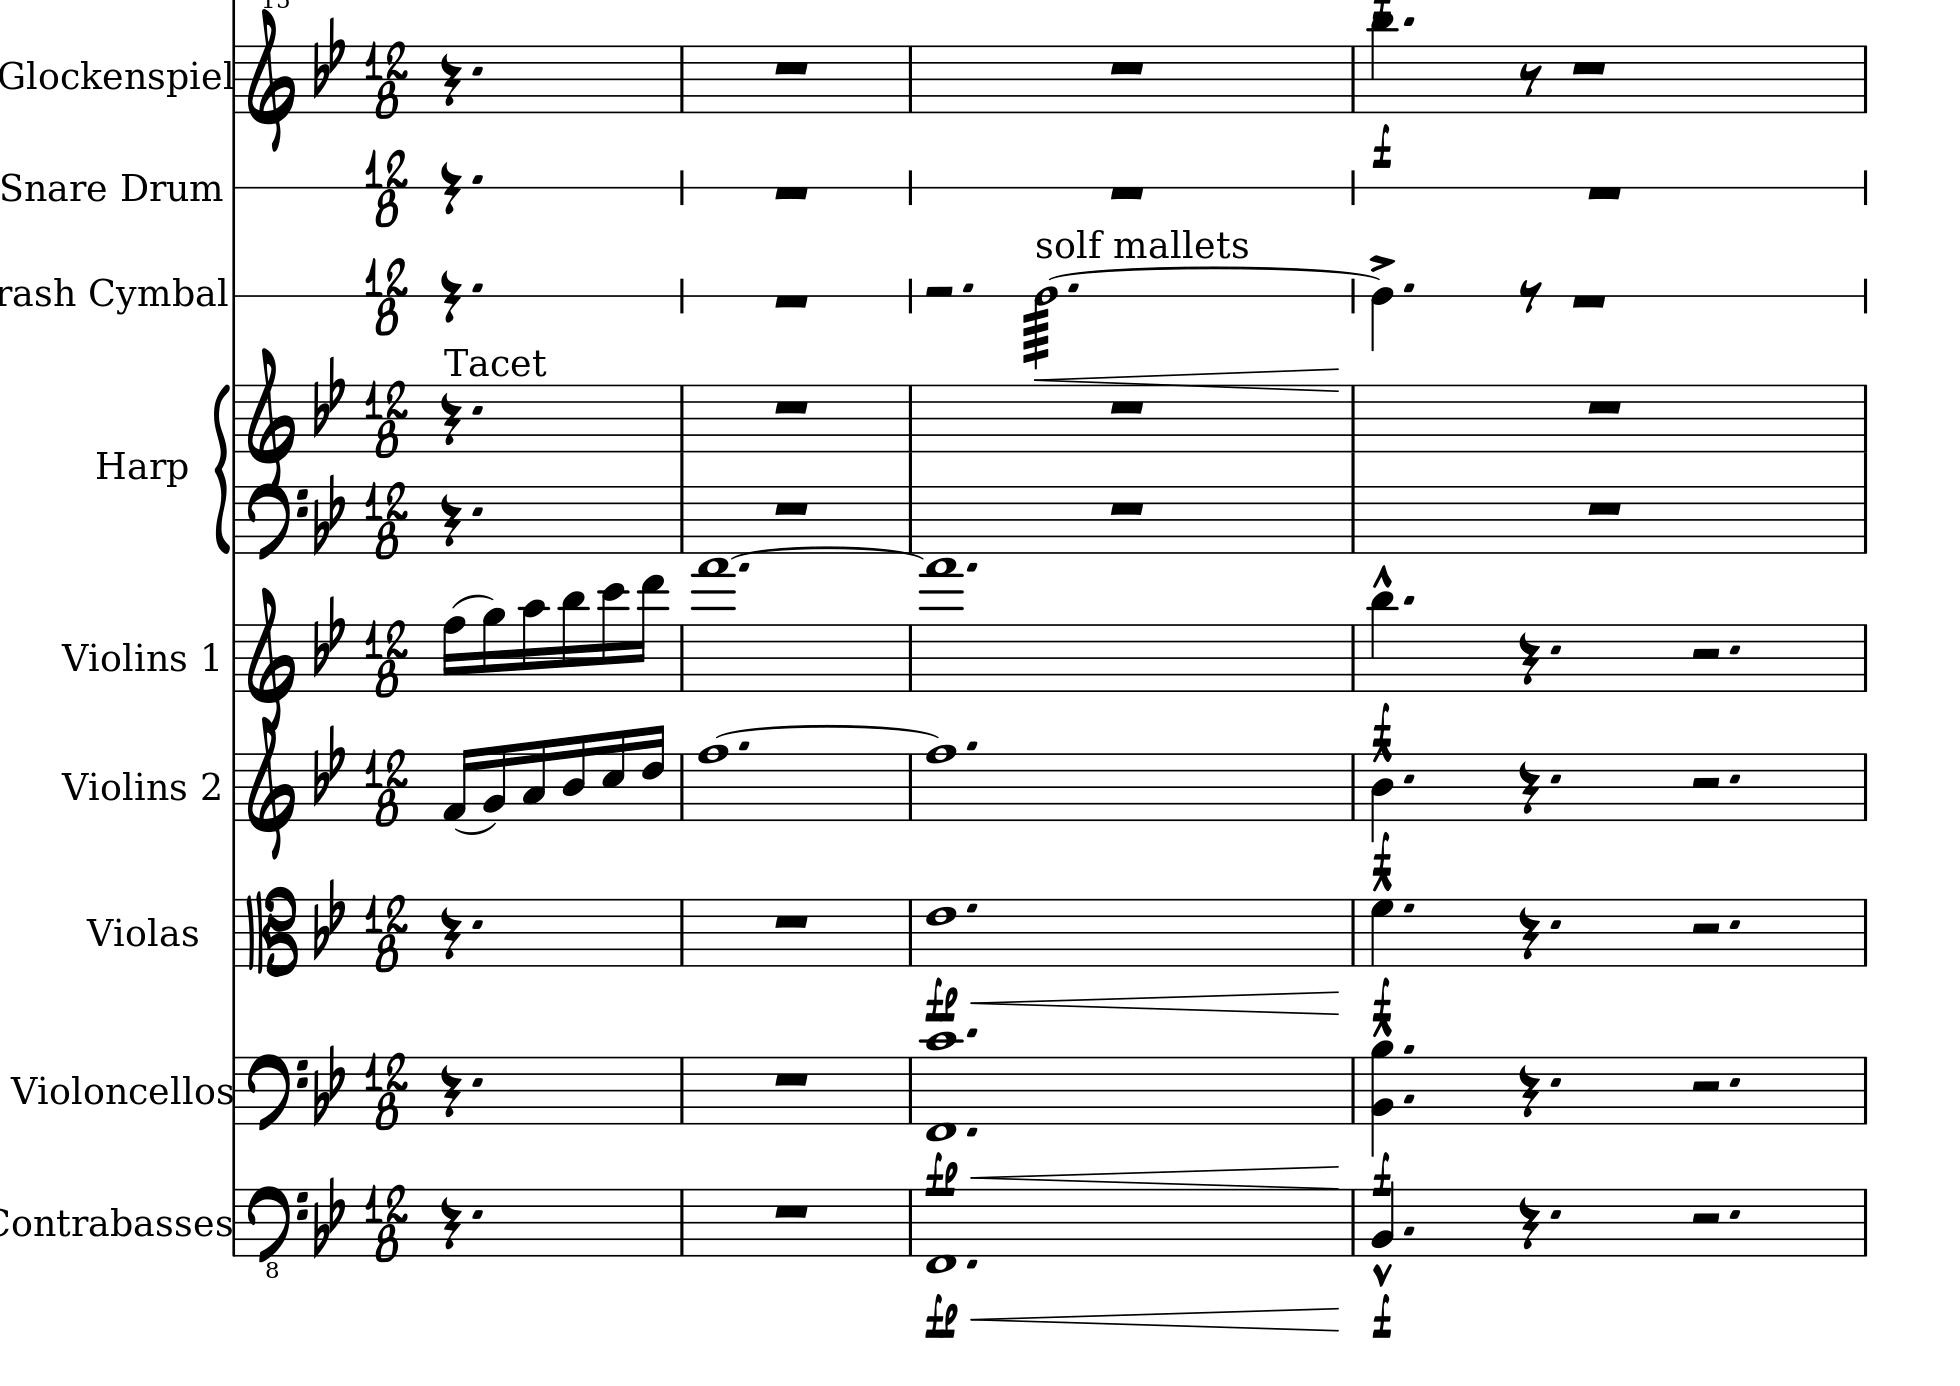1: (361, 39, 382, 79), (361, 480, 382, 520), (363, 1050, 382, 1092), (363, 256, 384, 295), (363, 618, 382, 658), (363, 892, 382, 933), (363, 379, 382, 418), (363, 1183, 382, 1222), (364, 147, 382, 189), (363, 747, 381, 787)
16_1: (439, 745, 475, 822)
16_10: (520, 598, 547, 694)
16_11: (558, 589, 586, 694)
16_12: (598, 580, 628, 693)
16_13: (633, 574, 666, 691)
16_2: (481, 742, 508, 822)
16_3: (520, 736, 547, 822)
16_4: (561, 733, 586, 822)
16_5: (600, 727, 627, 822)
16_6: (640, 721, 667, 823)
16_8: (439, 613, 466, 693)
16_9: (480, 604, 505, 694)
1_-1: (925, 1198, 955, 1279)
1_-1_10: (919, 1030, 964, 1141)
1_15: (922, 555, 963, 693), (694, 555, 733, 693)
1_6: (924, 897, 957, 967)
1_8: (924, 742, 958, 823), (697, 742, 730, 823)
2: (384, 616, 409, 660), (384, 747, 411, 787), (382, 1050, 409, 1090), (384, 37, 409, 79), (384, 1182, 409, 1224), (382, 148, 409, 187), (384, 378, 409, 418), (384, 480, 409, 520), (384, 892, 409, 933), (385, 256, 411, 295)
4_11: (1368, 9, 1398, 115), (1368, 589, 1398, 693)
4_2: (1371, 1186, 1395, 1258)
4_2_9: (1368, 1038, 1398, 1156)
4_4: (1369, 753, 1395, 840), (1369, 283, 1395, 352)
4_7: (1371, 895, 1396, 967)
8: (372, 417, 402, 459), (372, 786, 402, 828), (372, 931, 402, 973), (372, 657, 400, 699), (373, 1089, 400, 1132), (373, 519, 402, 559), (373, 1221, 402, 1261), (373, 78, 400, 118), (373, 295, 400, 334), (375, 187, 399, 226)
Accent_above: (1368, 250, 1398, 271)
B_F: (312, 876, 346, 960), (312, 1042, 346, 1126), (312, 594, 346, 676), (313, 355, 346, 439), (312, 472, 345, 556), (313, 723, 346, 807), (312, 1174, 345, 1258), (313, 13, 345, 100)
Brace: (211, 381, 231, 553)
Cclef: (244, 885, 298, 976)
Crescendo_hairpin: (970, 1306, 1344, 1330), (970, 1164, 1341, 1188), (973, 990, 1341, 1014), (1035, 364, 1341, 391)
Fclef: (246, 1051, 307, 1132), (247, 483, 307, 562)
Gclef: (247, 6, 297, 150), (247, 712, 295, 859), (246, 586, 295, 727), (247, 349, 295, 487)
Lower_Fclef: (246, 1182, 309, 1279)
Marcato_above: (1371, 562, 1395, 589), (1371, 1261, 1395, 1287)
Rests1: (1107, 181, 1149, 204), (1584, 181, 1626, 204), (1584, 396, 1626, 418), (1584, 496, 1626, 519), (769, 181, 813, 202), (1105, 396, 1149, 417), (1569, 291, 1611, 312), (769, 396, 811, 417), (1107, 496, 1149, 517), (769, 910, 811, 931), (771, 496, 811, 517), (769, 291, 813, 310), (1569, 57, 1611, 76), (769, 1068, 811, 1087), (769, 1200, 811, 1219), (1107, 58, 1149, 76), (771, 58, 811, 76)
Rests2: (1687, 643, 1725, 664), (1687, 772, 1725, 793), (1687, 1207, 1725, 1228), (1687, 918, 1723, 939), (1687, 1075, 1723, 1096), (921, 280, 955, 301)
Rests4: (1516, 757, 1542, 816), (438, 159, 463, 216), (1516, 904, 1542, 961), (439, 267, 463, 325), (1518, 628, 1542, 687), (1518, 1062, 1542, 1120), (1518, 1194, 1542, 1252), (438, 904, 462, 961), (438, 1062, 462, 1119), (438, 1194, 462, 1251), (439, 390, 462, 447), (439, 490, 462, 547), (439, 51, 462, 106)
Rests8: (1518, 61, 1545, 97), (1518, 277, 1545, 313)
Single_barline: (1855, 898, 1875, 966), (1857, 753, 1875, 820), (1857, 1056, 1875, 1123), (1857, 1188, 1875, 1255), (901, 384, 919, 450), (1344, 384, 1362, 450), (1857, 624, 1875, 690), (1344, 486, 1362, 550), (901, 900, 919, 964), (1857, 384, 1873, 451), (1857, 45, 1873, 111), (1857, 486, 1873, 552), (673, 1057, 690, 1123), (901, 1189, 918, 1255), (903, 46, 919, 111), (673, 385, 690, 450), (673, 486, 690, 550), (1345, 624, 1362, 688), (673, 754, 690, 819), (901, 754, 918, 819), (673, 900, 690, 964), (901, 1057, 918, 1122), (1345, 46, 1362, 109), (673, 624, 688, 691), (228, 1056, 243, 1123), (673, 46, 688, 112), (903, 624, 918, 688), (1347, 898, 1362, 963), (673, 1189, 688, 1254), (1347, 1057, 1362, 1120), (228, 751, 241, 820), (226, 898, 240, 964), (228, 1189, 241, 1255), (1347, 1189, 1360, 1254), (1347, 754, 1360, 817), (229, 45, 241, 112), (229, 382, 241, 450), (228, 624, 240, 691), (903, 487, 916, 544), (229, 487, 241, 550)
Slur: (1050, 265, 1381, 280), (715, 724, 937, 739), (732, 544, 928, 559), (451, 592, 493, 607), (454, 820, 496, 835)
TimeSig: (367, 747, 409, 828), (367, 891, 408, 973), (367, 1050, 408, 1131), (366, 256, 406, 337), (366, 148, 406, 229), (369, 1183, 409, 1263), (367, 378, 406, 459), (367, 480, 406, 559), (367, 618, 406, 697), (369, 39, 406, 120)
dot: (1401, 589, 1417, 609), (964, 556, 981, 574), (1401, 13, 1417, 30), (1401, 279, 1417, 295), (964, 736, 981, 753), (1548, 769, 1564, 784), (964, 1024, 979, 1041), (964, 1123, 981, 1138), (1548, 1206, 1564, 1221), (469, 63, 484, 78), (736, 559, 751, 574), (1401, 898, 1416, 913), (469, 916, 484, 931), (1401, 1039, 1416, 1054), (469, 1074, 484, 1089), (1548, 1074, 1563, 1089), (1402, 1090, 1417, 1105), (469, 1206, 484, 1221), (469, 504, 486, 517), (1548, 642, 1564, 655), (964, 900, 981, 913), (1548, 916, 1564, 930), (964, 1257, 981, 1270), (469, 280, 484, 294), (1068, 280, 1081, 295), (1728, 642, 1743, 655), (1402, 769, 1416, 784), (1728, 916, 1741, 931), (1401, 1222, 1416, 1236), (472, 400, 484, 417), (738, 739, 751, 753), (1728, 771, 1741, 784), (1728, 1075, 1741, 1089), (1728, 1207, 1741, 1219)
f: (1369, 700, 1395, 763), (1369, 976, 1395, 1038), (1371, 829, 1395, 891), (1371, 121, 1395, 169), (1371, 1293, 1393, 1341), (1371, 1150, 1393, 1189)
fp: (924, 1293, 958, 1339), (922, 978, 958, 1021), (922, 1152, 958, 1195)
